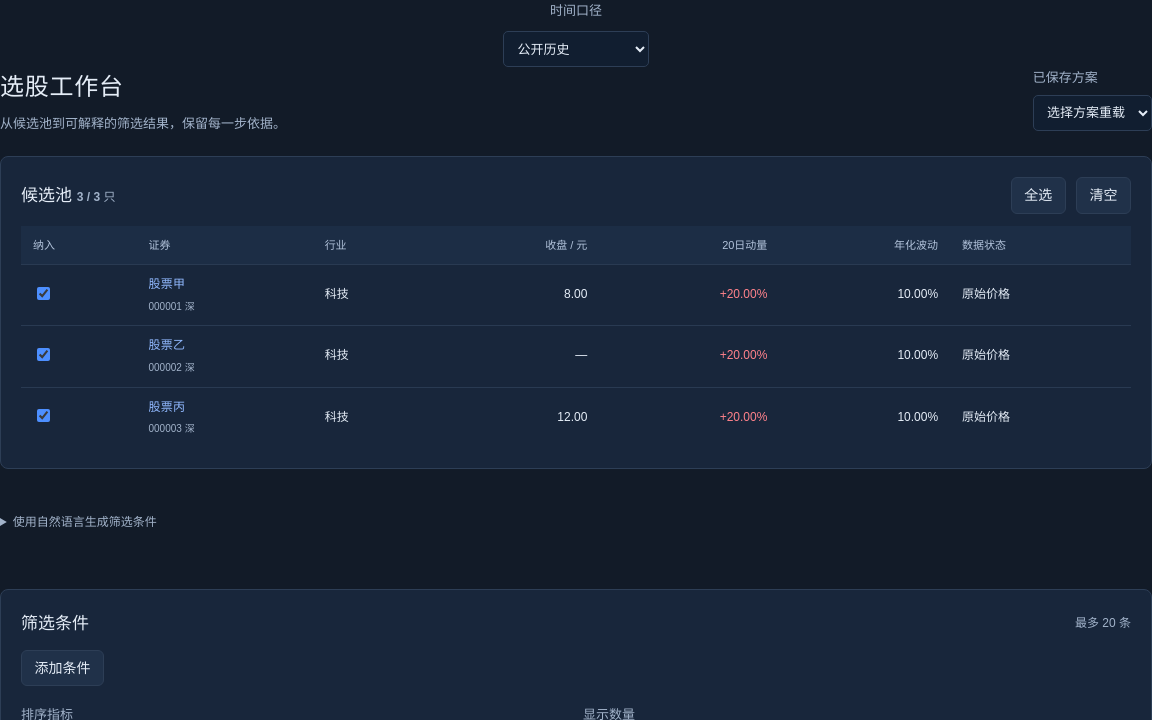
Test: runs against the original selected pool and recomputes a shorter prefix on rollback
The image size is (1152, 720).
Expected: the checkbox named "纳入 股票甲" is shown, [37,287,50,300]
Click the button "添加条件" at (63, 668), box [21,650,104,686]
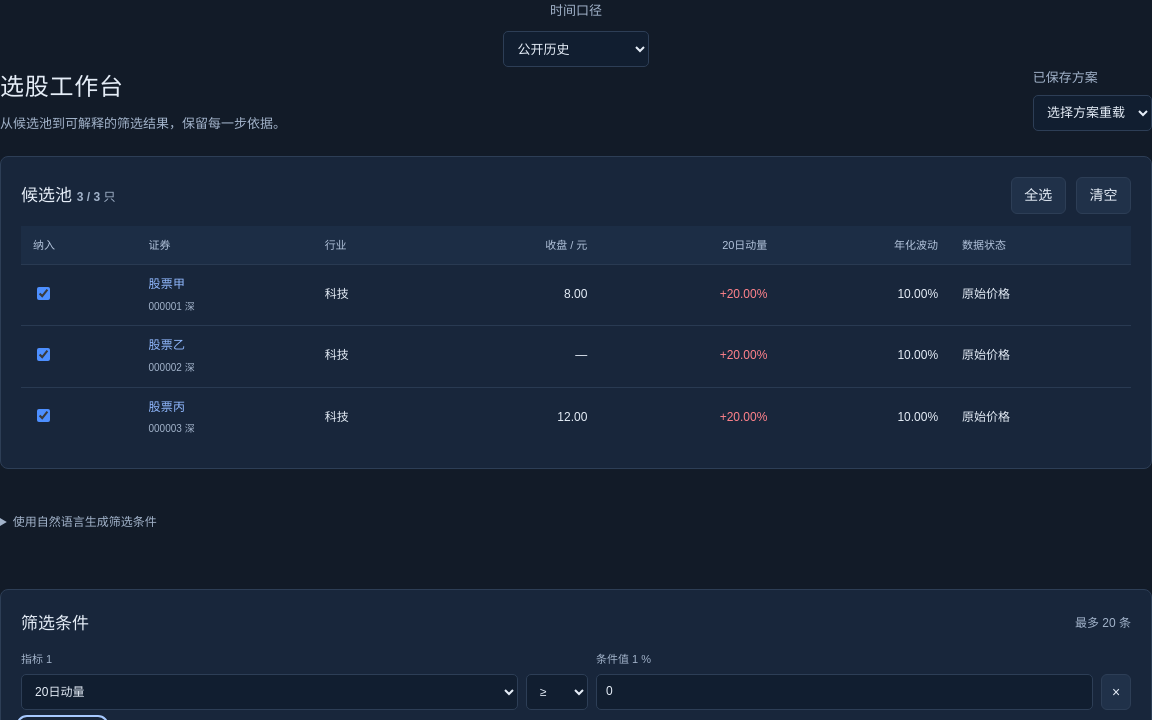
Select "收盘价" in the dropdown labelled "指标 1" at (270, 692), box [21,674,518,710]
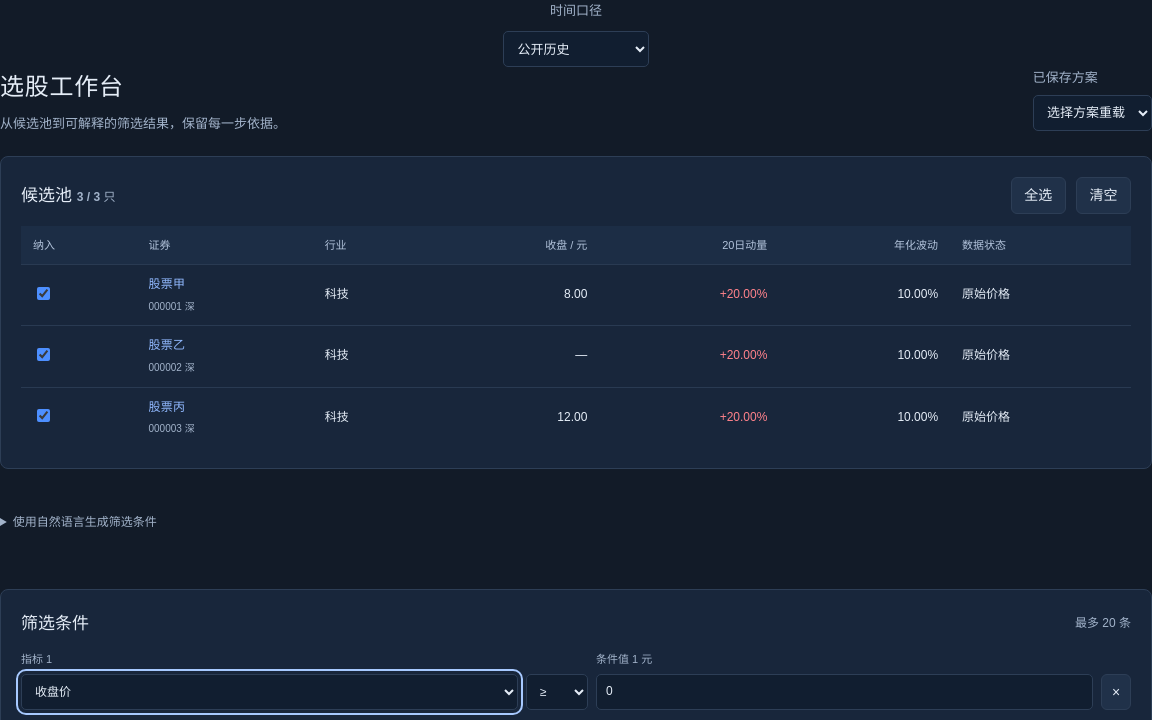
Replace the text in the field labelled "条件值 1" with "10" at (844, 692), box [596,674,1093,710]
(page scrolled)
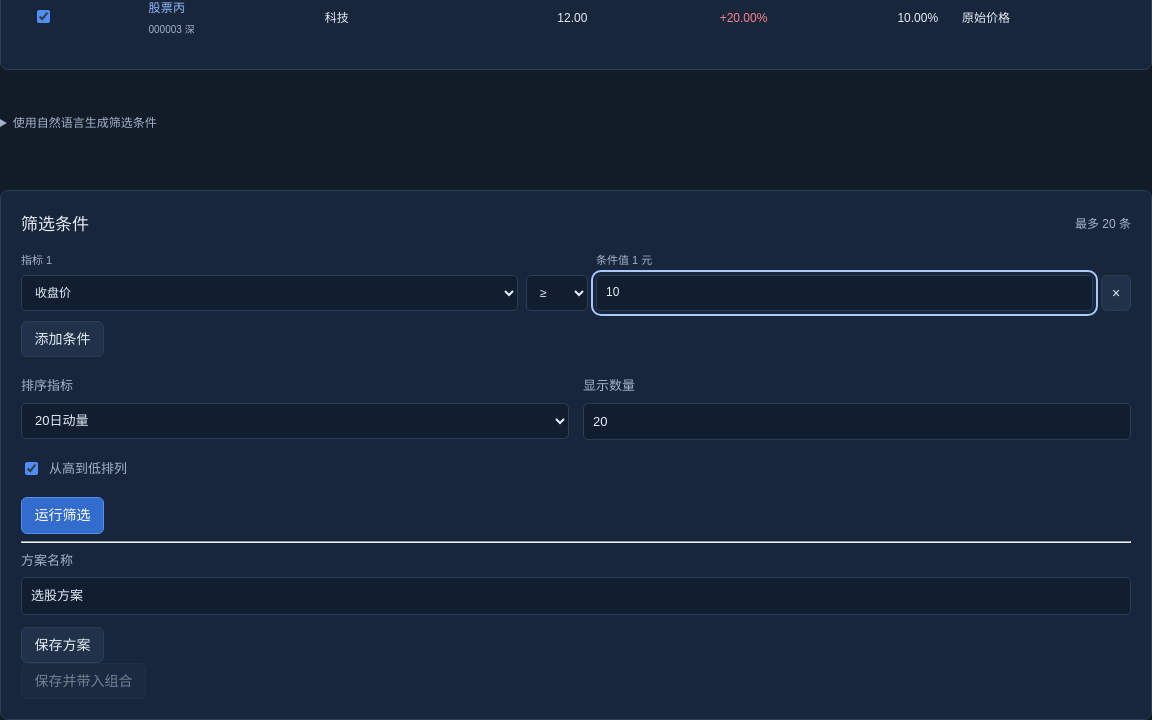
Click the button "运行筛选" at (63, 516), box [21,497,104,534]
(page scrolled)
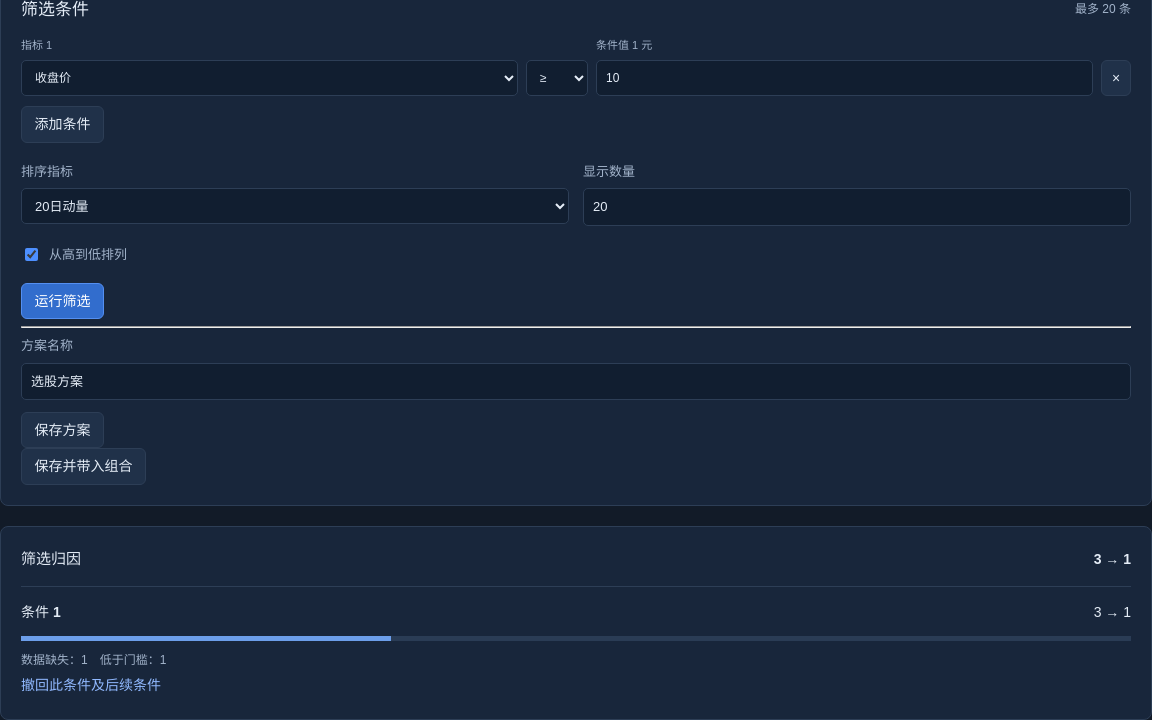
Expected: the text "数据缺失：1" is shown, [21,651,88,670]
Click the button with aria-label "撤回条件 1" at (91, 685), box [21,670,161,699]
(page scrolled)
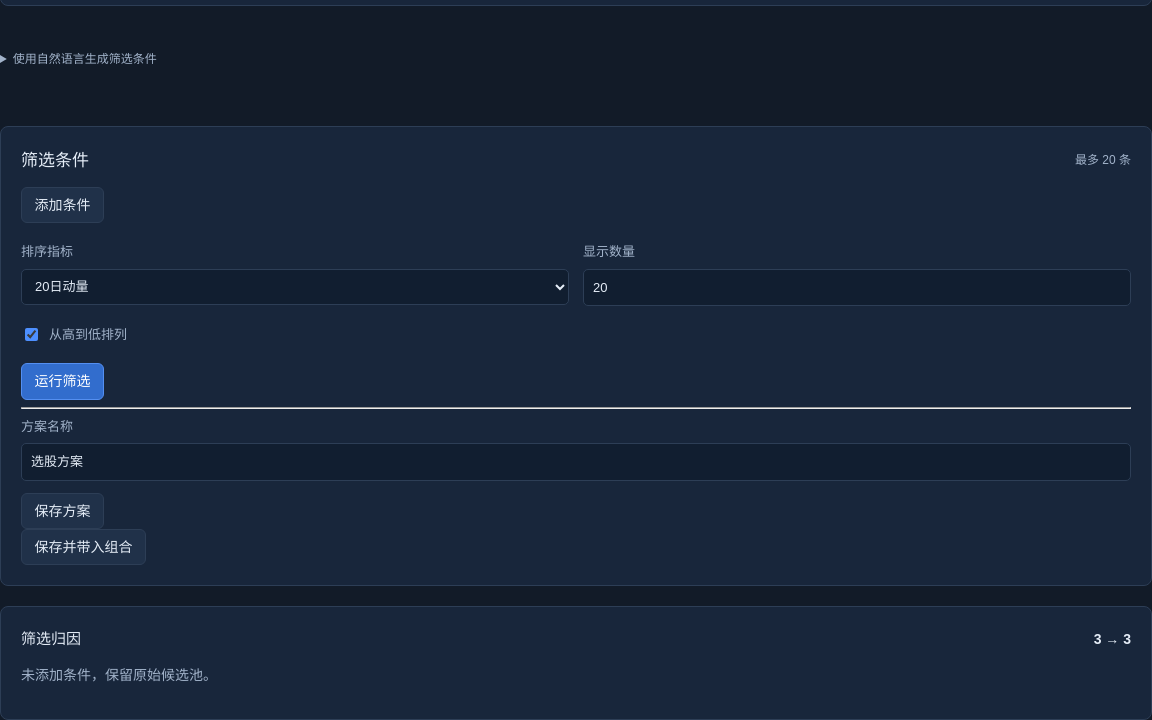
Expected: the text "未添加条件，保留原始候选池。" is shown, [21,667,217,683]
